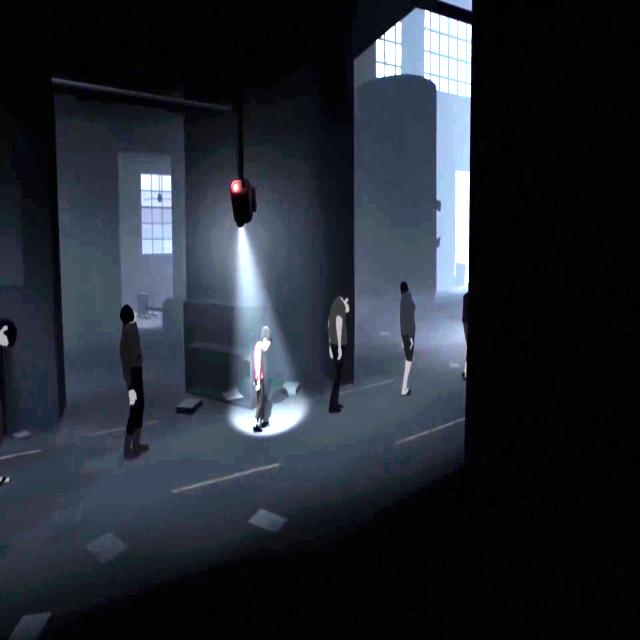boy: (252, 324, 272, 432)
zombie: (118, 303, 149, 457), (327, 294, 352, 412), (0, 320, 13, 487), (399, 283, 415, 398), (461, 284, 470, 383)
